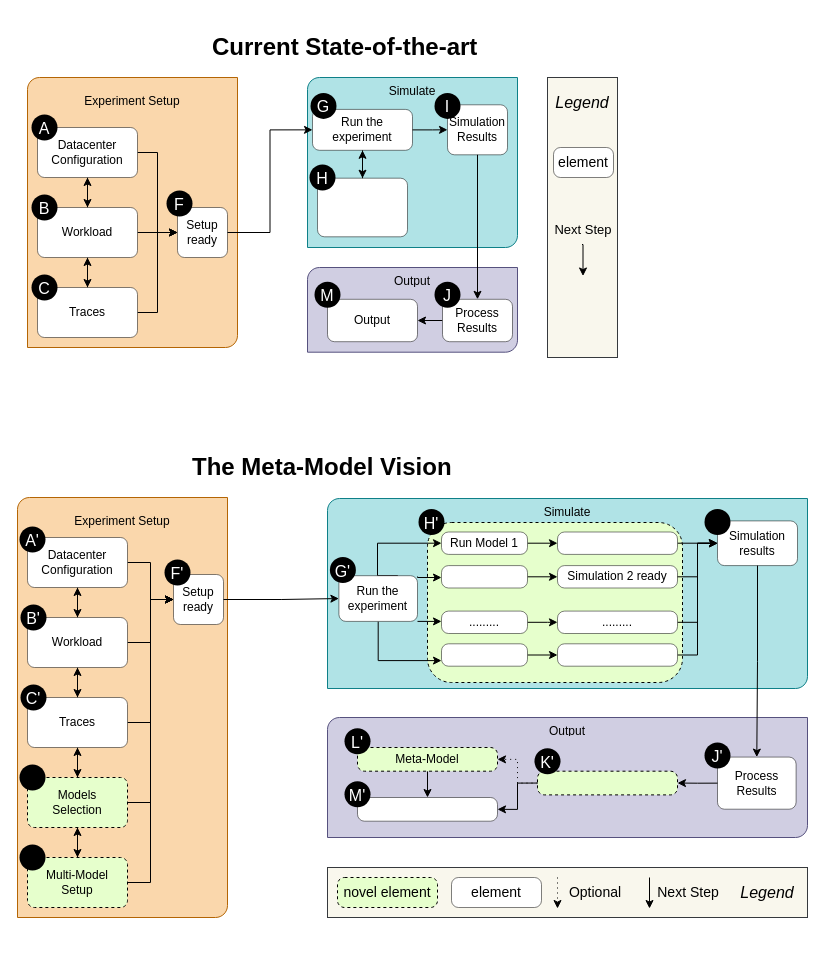
This 825x967 diagram has some shape labels left out. Here are the shapes that lost their labels. From the top down, the centre of each, then its label:
At point 362,207: "Use a simulation model".
At point 717,521: "I'".
At point 617,542: "Simulation 1 ready".
At point 484,576: "Run Model 2".
At point 484,654: "Run Model x".
At point 617,654: "Simulation x ready".
At point 32,777: "D'".
At point 607,782: "Multi-Model".
At point 427,809: "Outputs".
At point 32,857: "E'".
